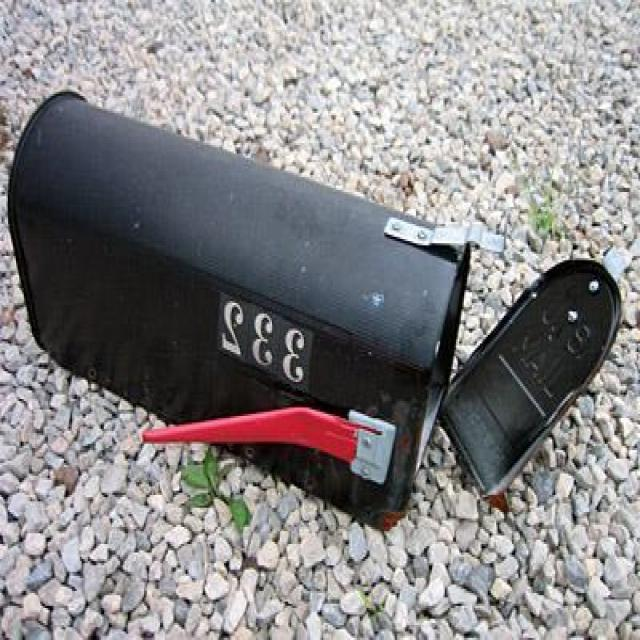Post Box: (3, 82, 631, 526)
